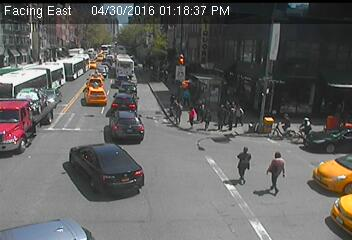neg: (289, 111, 317, 148), (26, 196, 52, 231), (270, 108, 295, 142), (283, 44, 305, 74), (50, 18, 71, 45), (15, 37, 35, 65), (214, 30, 234, 56), (319, 156, 337, 181), (179, 32, 197, 56), (249, 39, 266, 62), (137, 35, 152, 56), (184, 153, 199, 173), (156, 171, 171, 190), (96, 60, 110, 79), (57, 61, 71, 80), (322, 63, 336, 82), (146, 155, 160, 173), (49, 134, 60, 149), (88, 153, 99, 168), (109, 112, 119, 125)
pos: (255, 150, 288, 194), (227, 142, 259, 183), (193, 103, 219, 137), (162, 94, 185, 125), (210, 102, 233, 132), (218, 102, 238, 129), (177, 82, 195, 107), (181, 104, 199, 128), (229, 102, 246, 124)
